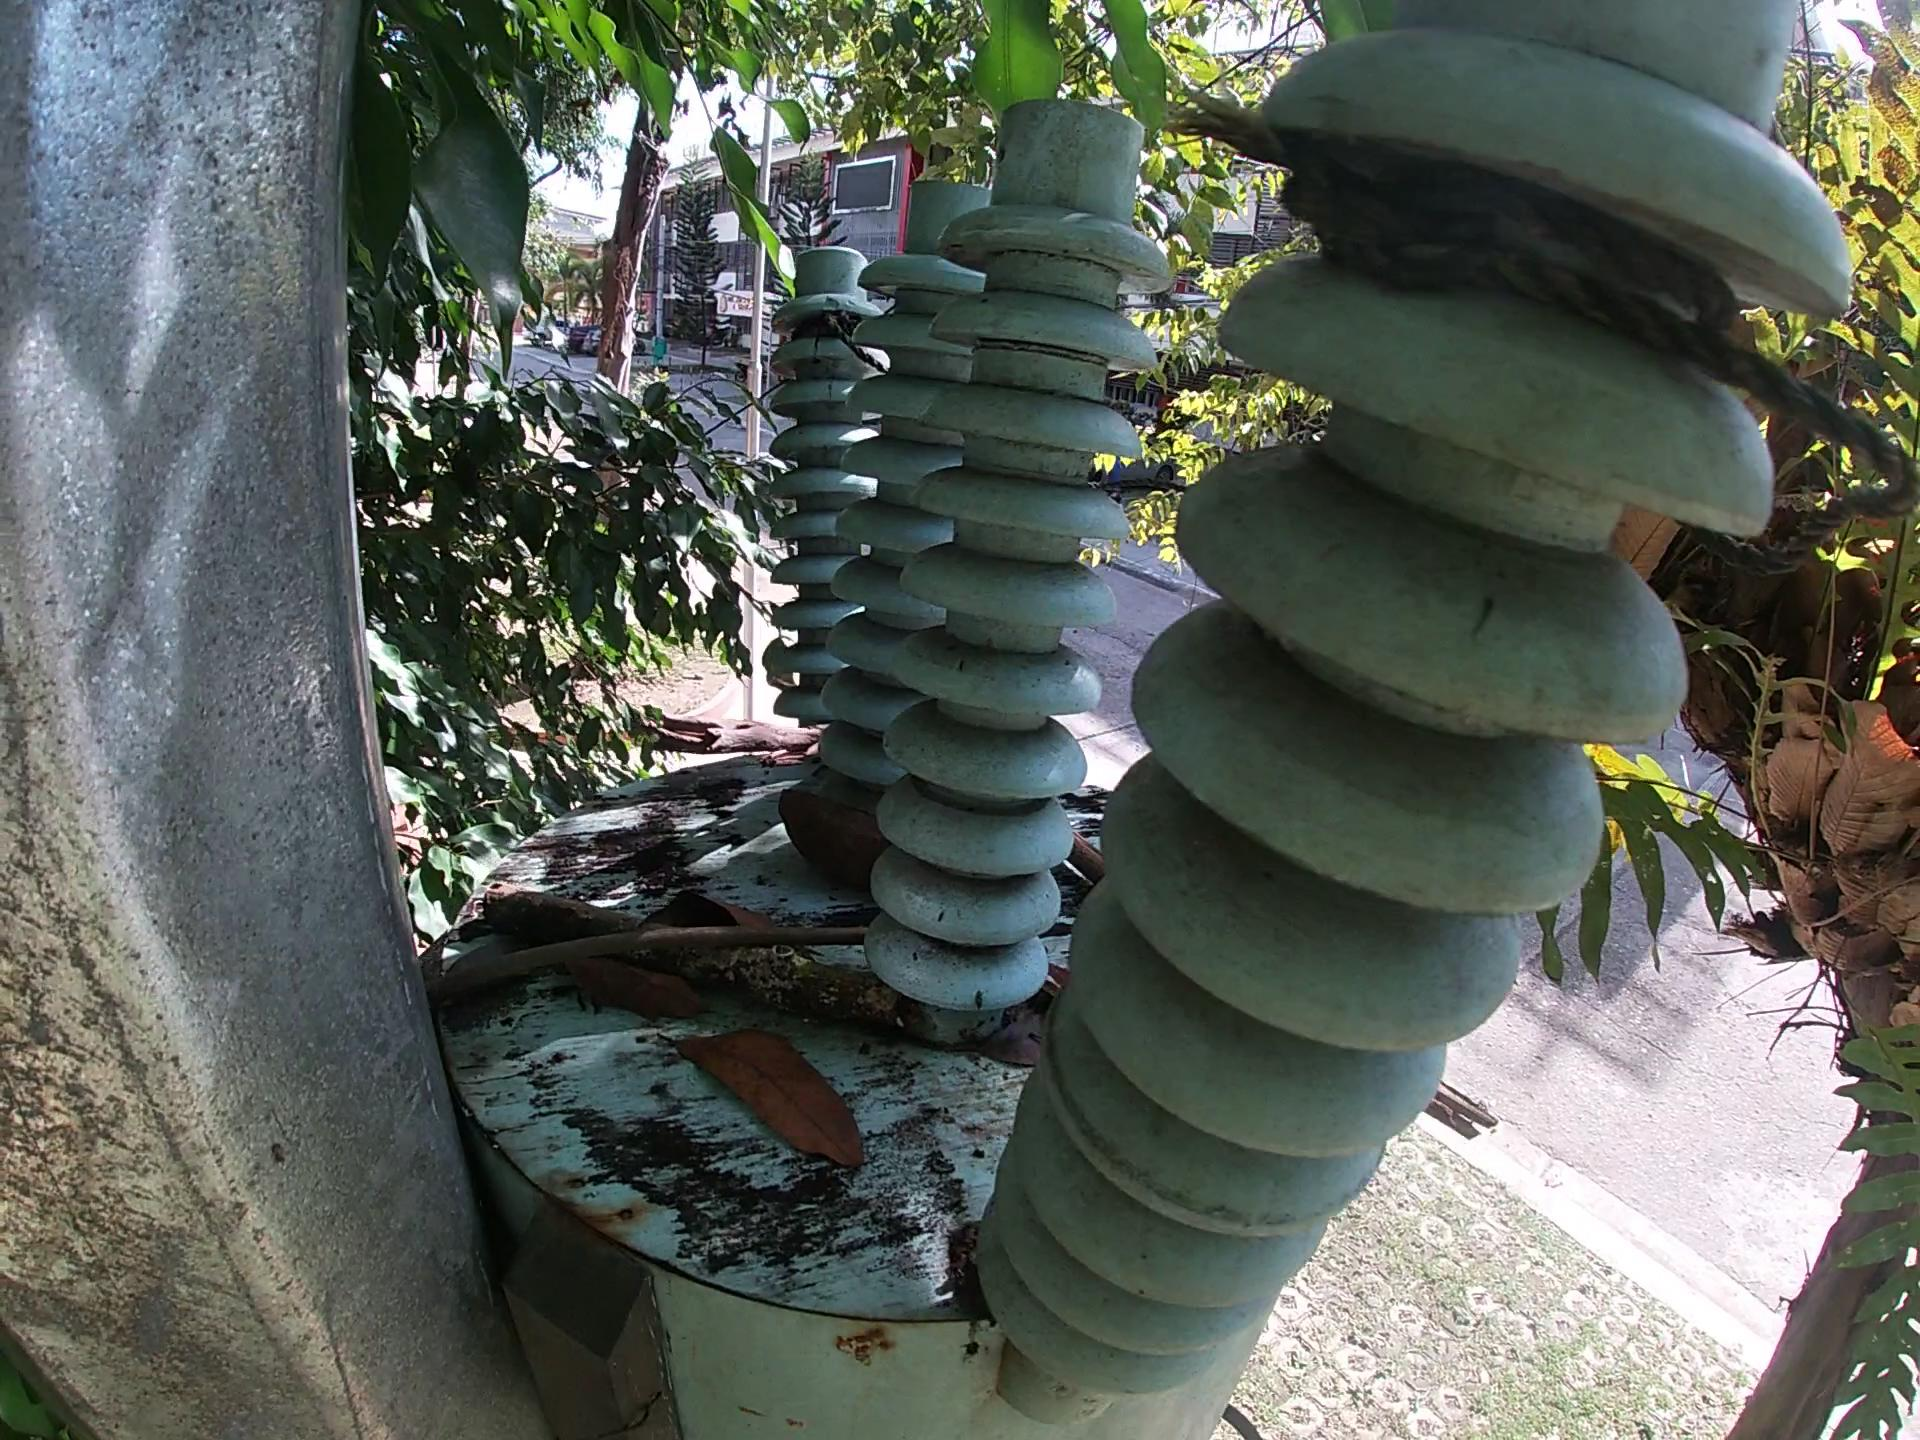leaf: (649, 1021, 878, 1175), (553, 957, 711, 1024), (942, 1013, 1061, 1075), (633, 895, 766, 930)
mahogany fruit: (776, 779, 892, 885)
tree branch: (466, 877, 906, 1027), (416, 920, 881, 1007), (633, 711, 825, 762)
